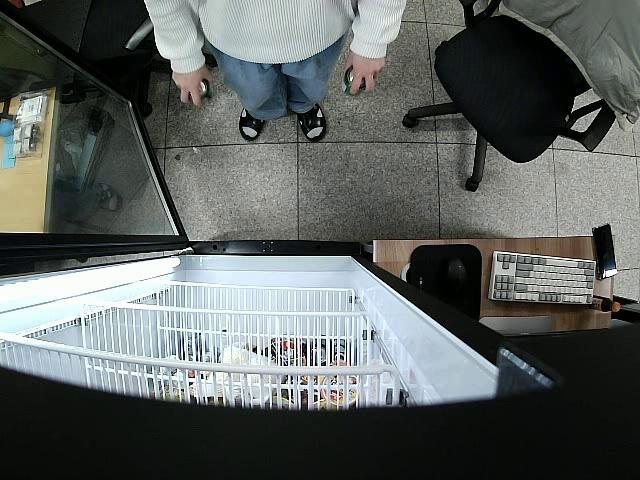12_chilsungCider: (340, 66, 366, 96)
